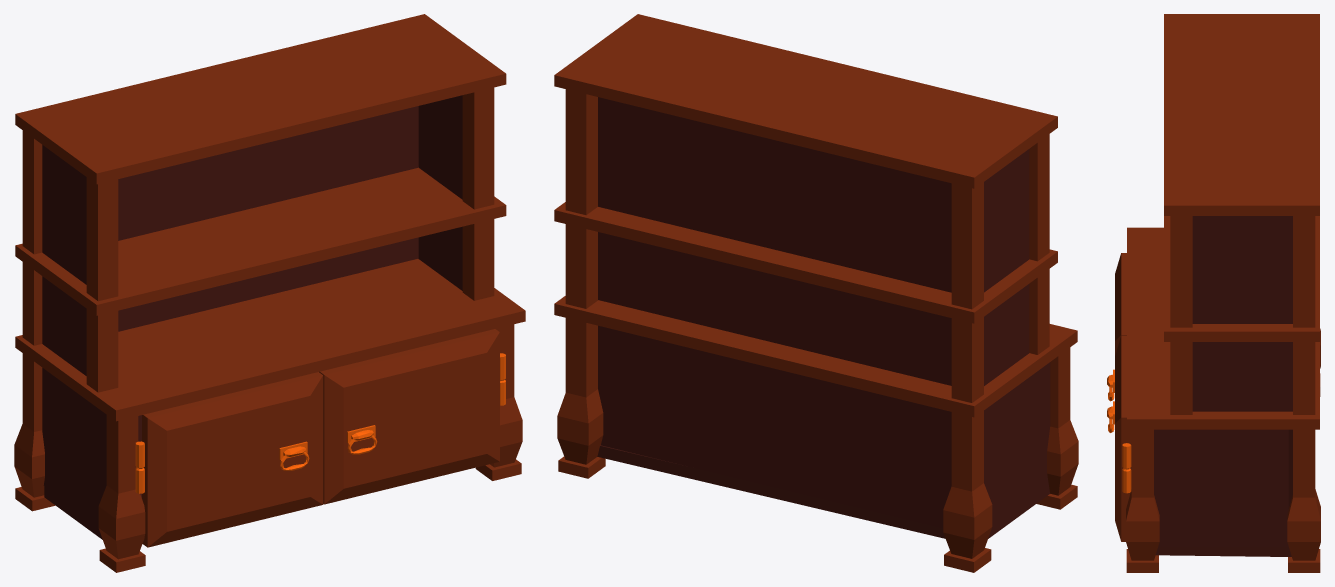
The model's file is Furniture_2.fbx.
The picture shows the model from 3 angles, left to right: view 1: azimuth 30°, elevation 25°; view 2: azimuth 150°, elevation 25°; view 3: azimuth 270°, elevation 25°; orthographic projection. The views are drawn at different scales.
Visible parts, largest first — view 1: Wealth_Shelw_4, Wealth_Shelw_4_Left_Door, Wealth_Shelw_4_Right_Door; view 2: Wealth_Shelw_4; view 3: Wealth_Shelw_4, Wealth_Shelw_4_Right_Door, Wealth_Shelw_4_Left_Door.
Part boxes in pixels (bbox=[...]): Wealth_Shelw_4: bbox=[14, 14, 525, 572]; Wealth_Shelw_4_Left_Door: bbox=[135, 372, 323, 547]; Wealth_Shelw_4_Right_Door: bbox=[319, 329, 505, 504]; Wealth_Shelw_4: bbox=[554, 14, 1078, 572]; Wealth_Shelw_4: bbox=[1126, 14, 1320, 572]; Wealth_Shelw_4_Right_Door: bbox=[1107, 335, 1131, 541]; Wealth_Shelw_4_Left_Door: bbox=[1107, 253, 1126, 401].
Size of the model in its own units: 196 by 176 by 92.63.
